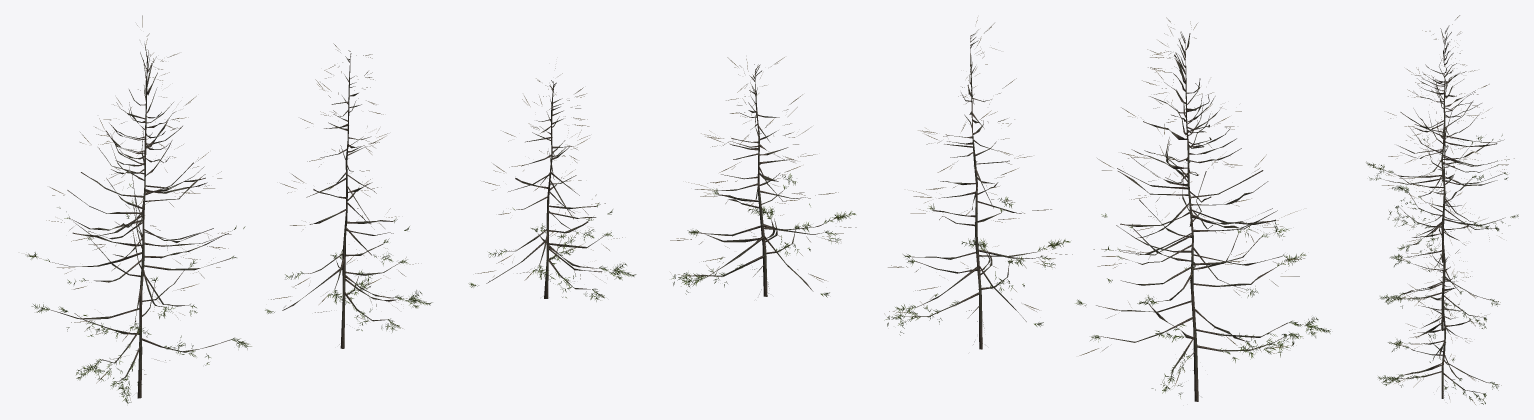
The model's file is tree_fir_sapling.glb.
The picture shows the model from 3 angles, left to right: view 1: azimuth 30°, elevation 25°; view 2: azimuth 150°, elevation 25°; view 3: azimuth 270°, elevation 25°; orthographic projection. The views are drawn at different scales.
Visible parts, largest first — view 1: tree_fir_sapling; view 2: tree_fir_sapling; view 3: tree_fir_sapling.
Boxes of the visible parts, box(x1,y1,x2,y2) form: tree_fir_sapling: box(25, 15, 636, 403); tree_fir_sapling: box(670, 17, 1330, 401); tree_fir_sapling: box(1366, 15, 1518, 404).
Bounding box in the file's own units: 5.24 × 3.18 × 1.77.
Materials: 3 (3 with a texture image).
